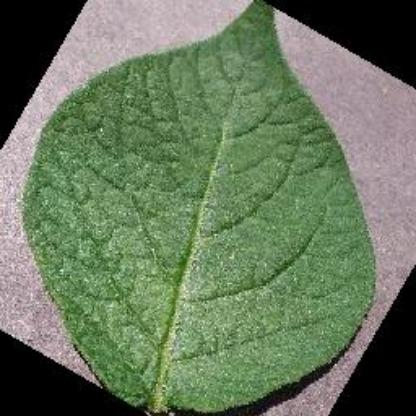Healthy-plant: (27, 0, 379, 412)
